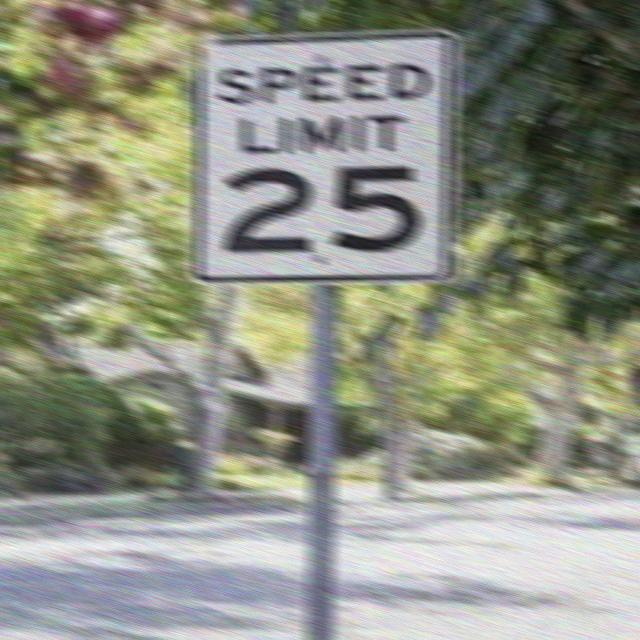speedLimit25: (189, 38, 457, 286)
